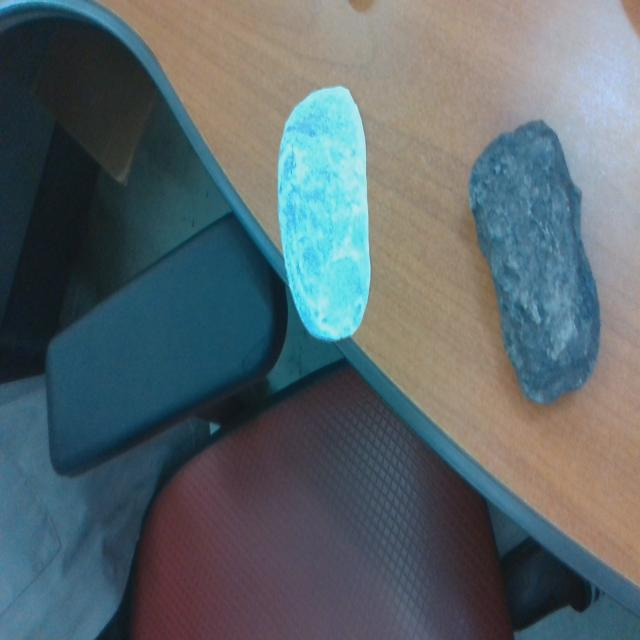stone: (472, 122, 600, 401)
